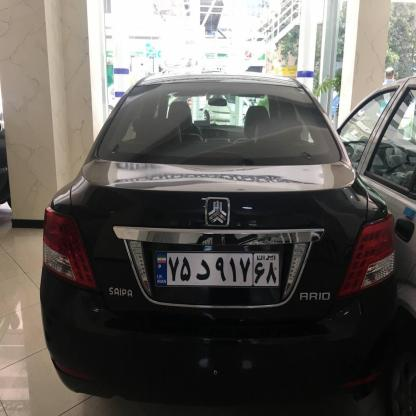Car: (31, 63, 394, 416), (327, 42, 416, 298), (198, 98, 258, 124)
